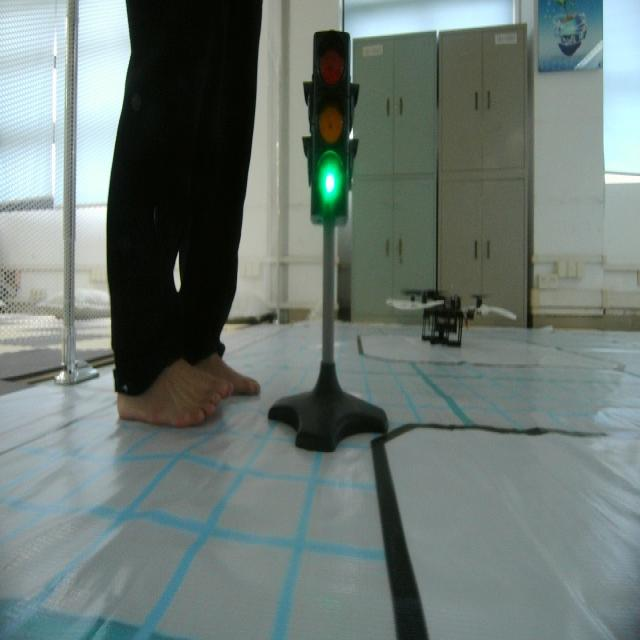green: (298, 24, 357, 227)
